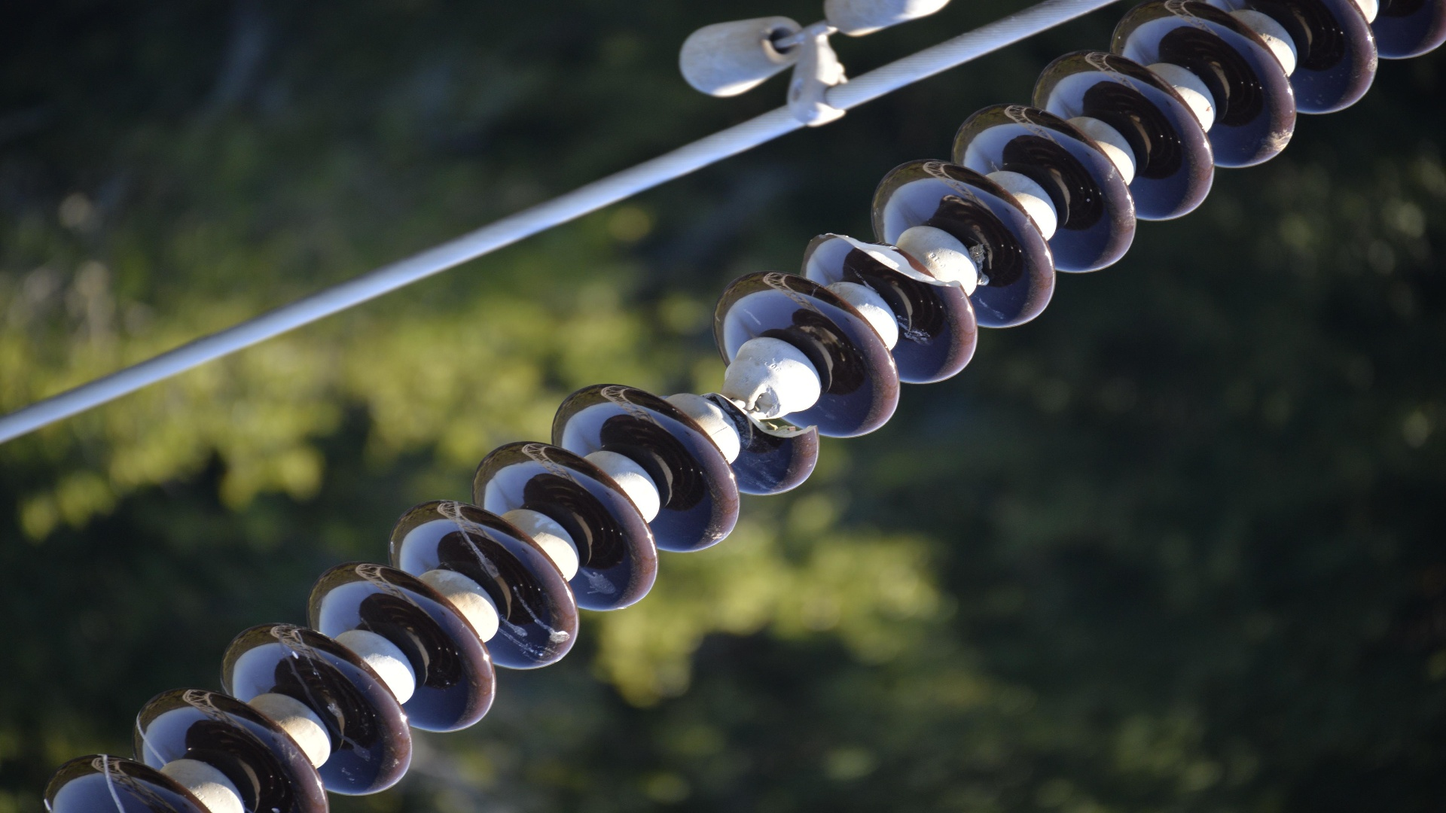insulator: (22, 1, 1446, 813)
insulator_breakage: (815, 227, 966, 292), (700, 384, 820, 444)
